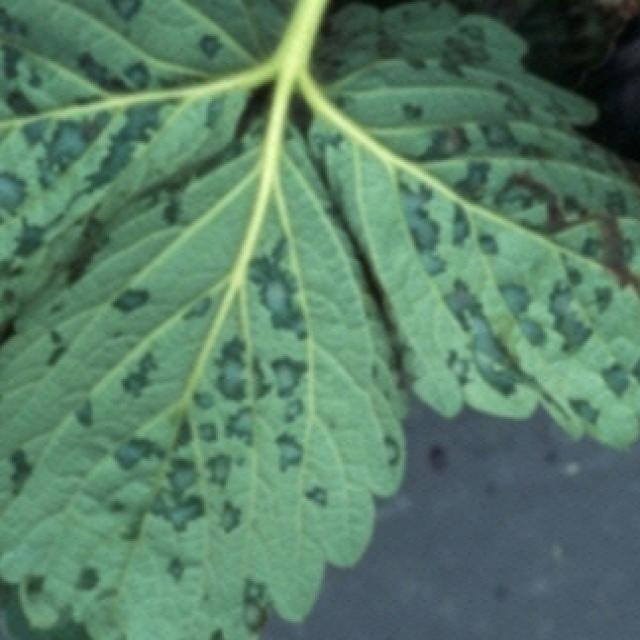Angular Leafspot: (0, 112, 409, 640), (303, 0, 640, 451)
